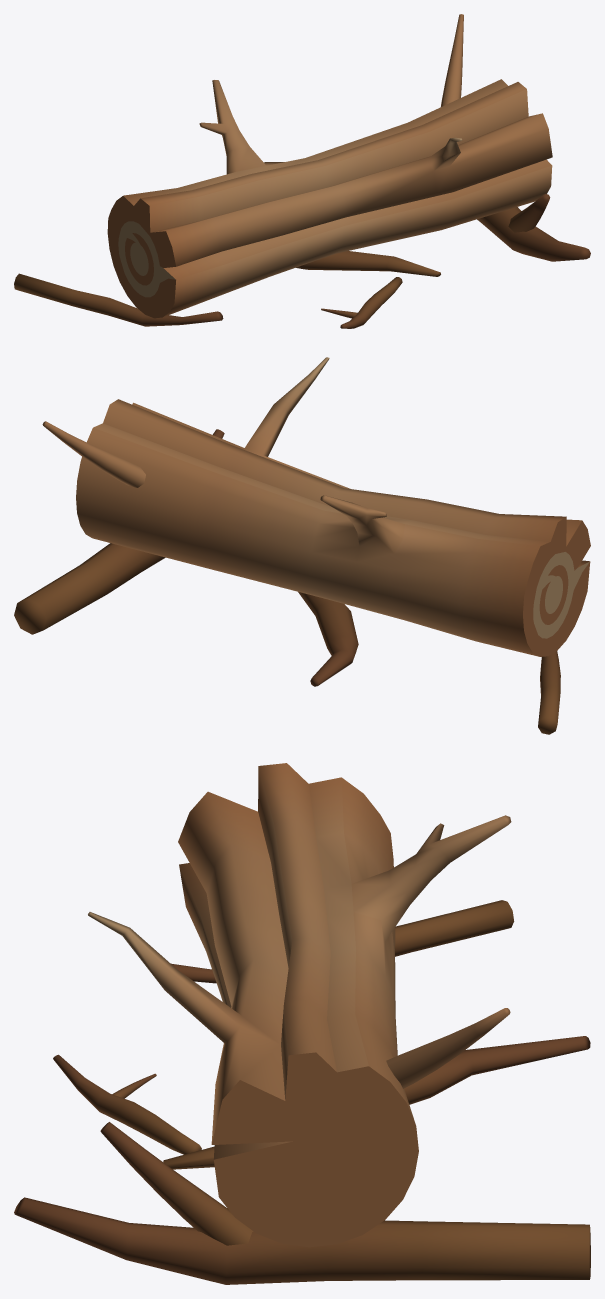
Rendered from Log_01.fbx.
3 renders of one model, top to bottom at view 1: azimuth 30°, elevation 25°; view 2: azimuth 150°, elevation 25°; view 3: azimuth 270°, elevation 25°, orthographic. The views are drawn at different scales.
Parts seen in each view (by area): view 1: Log_01; view 2: Log_01; view 3: Log_01.
Part boxes in pixels (x1,y1,x2,y2): Log_01: (14,14,590,328); Log_01: (14,357,590,734); Log_01: (14,763,590,1284).
Size of the model in its own units: 125 by 45.72 by 82.14.
